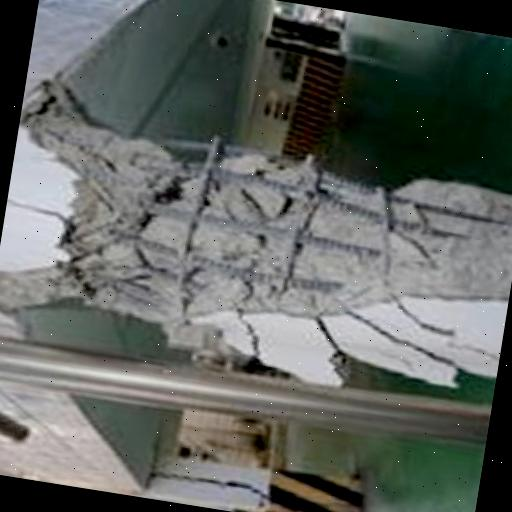spalling: (4, 134, 512, 323)
